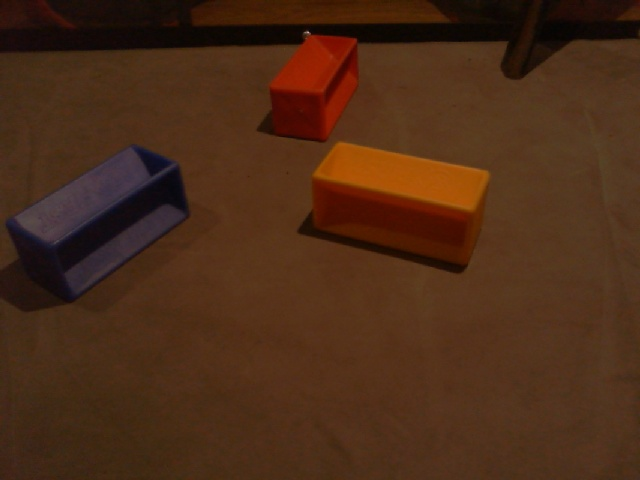BlueSample: (7, 143, 191, 305)
RedSample: (268, 34, 361, 144)
YellowSample: (308, 141, 493, 276)
